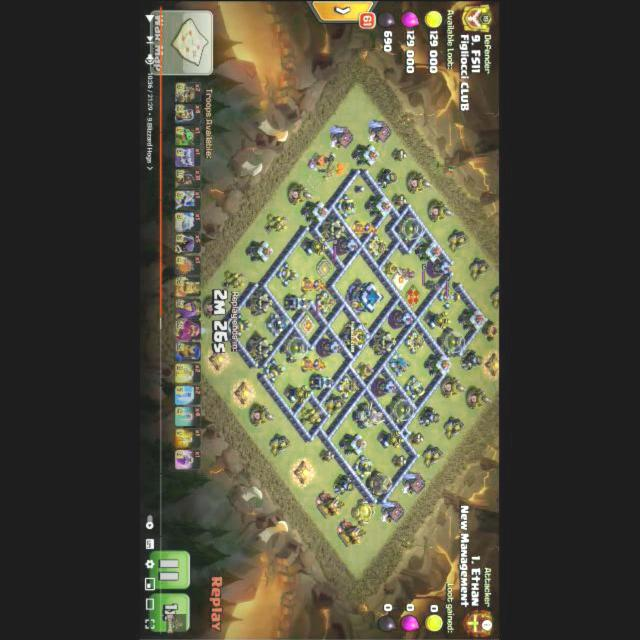AD: (425, 309, 453, 329), (284, 382, 312, 402), (378, 429, 406, 448), (301, 236, 329, 255)
AirSweeper: (382, 258, 404, 277), (355, 360, 375, 378)
BombTower: (284, 294, 311, 310), (309, 373, 336, 388)
Canon: (276, 261, 301, 286), (264, 357, 288, 382), (438, 282, 461, 308), (229, 312, 253, 336), (403, 374, 426, 399), (353, 454, 375, 479), (336, 193, 358, 218)
ClanCastle: (339, 321, 372, 349)
Eagle: (353, 401, 386, 428)
Inferno: (302, 355, 328, 371), (302, 276, 328, 292), (352, 220, 377, 235)
KingPad: (299, 313, 316, 336)
Mortar: (418, 404, 442, 426), (461, 348, 485, 370), (333, 472, 356, 494), (377, 166, 399, 188)
QueenPad: (405, 284, 422, 308)
RcPad: (318, 258, 333, 276)
Scattershot: (264, 312, 292, 337), (387, 351, 413, 376)
TH13: (346, 281, 385, 312)
WardenPad: (393, 269, 410, 290)
WizzTower: (389, 308, 415, 328), (427, 258, 453, 277), (371, 377, 397, 396), (316, 337, 342, 356), (333, 235, 358, 254)
Xbow: (366, 232, 391, 256), (337, 374, 361, 399), (404, 328, 427, 352), (316, 289, 339, 313)
